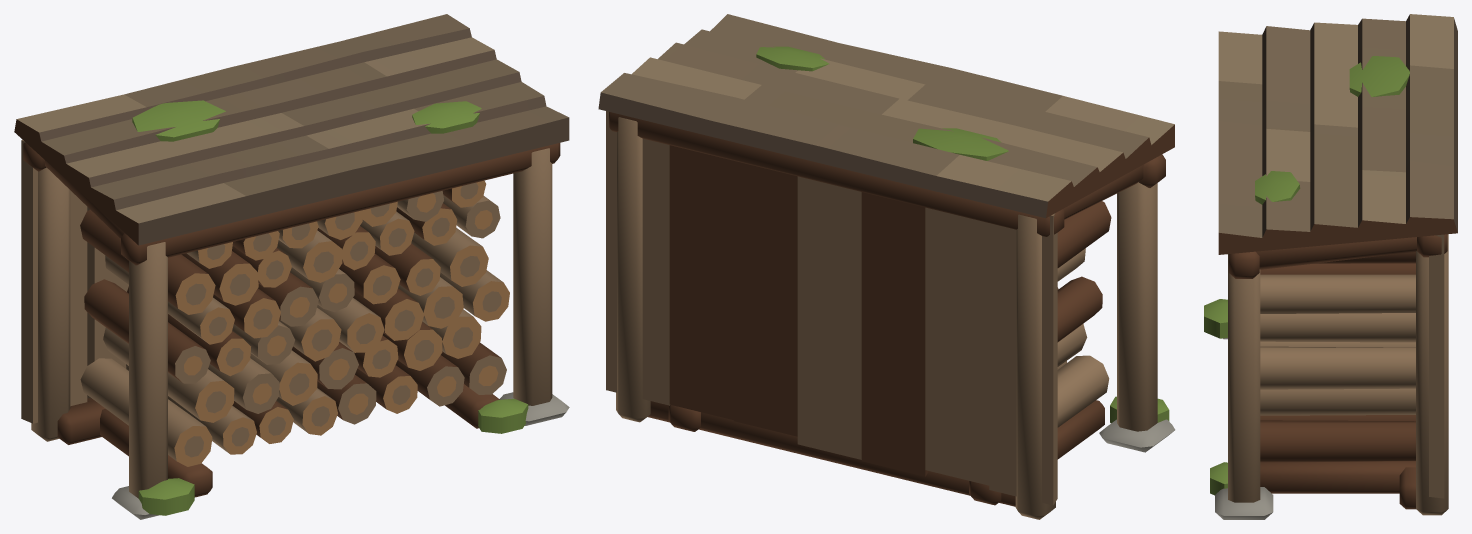
File: woodpile.glb
3 views of the same model, side by side, from view 1: azimuth 30°, elevation 25°; view 2: azimuth 150°, elevation 25°; view 3: azimuth 270°, elevation 25° (orthographic). The views are drawn at different scales.
Parts seen in each view (by area): view 1: woodpile; view 2: woodpile; view 3: woodpile.
Part boxes in pixels (x1,y1,x2,y2): woodpile: (14, 14, 569, 519); woodpile: (598, 14, 1175, 519); woodpile: (1204, 14, 1457, 519).
Size of what is drawn, in the model's own units: 1.42 by 1 by 0.7424.
